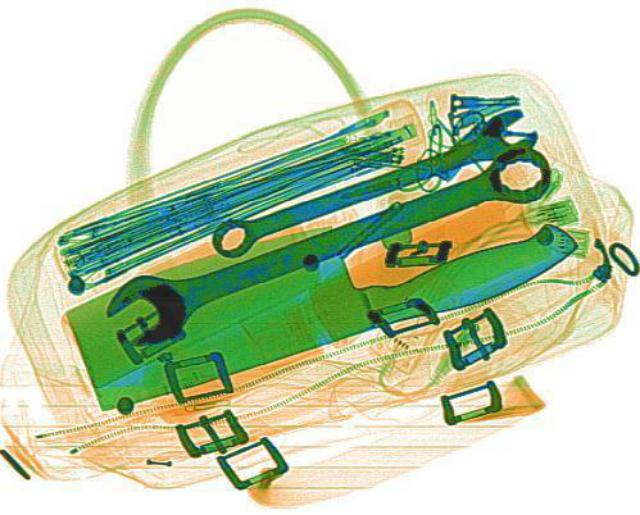Knife: (39, 154, 587, 415)
Wrench: (89, 138, 572, 349), (198, 102, 546, 263)
